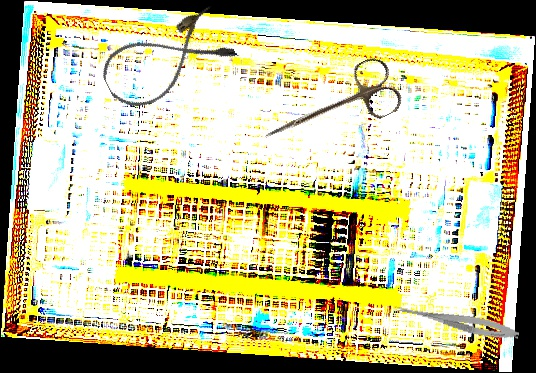Cannula: (94, 2, 239, 118)
Iris Scissors: (254, 53, 406, 166)
Micro Scissor: (391, 300, 521, 344)
